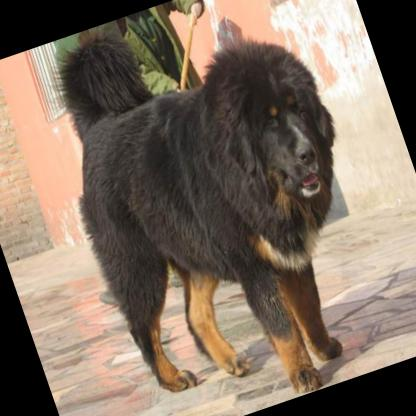Tibetan_mastiff: (23, 0, 414, 416)
